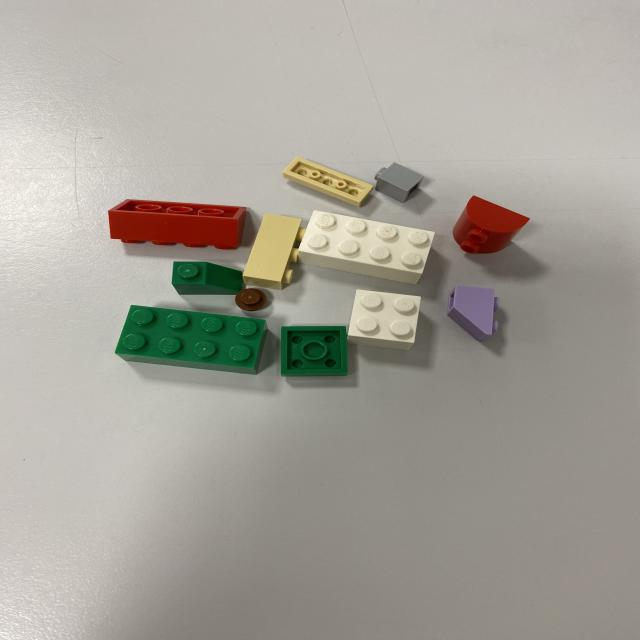C4x2x1: (300, 209, 436, 285), (117, 305, 275, 364), (118, 352, 257, 373)
